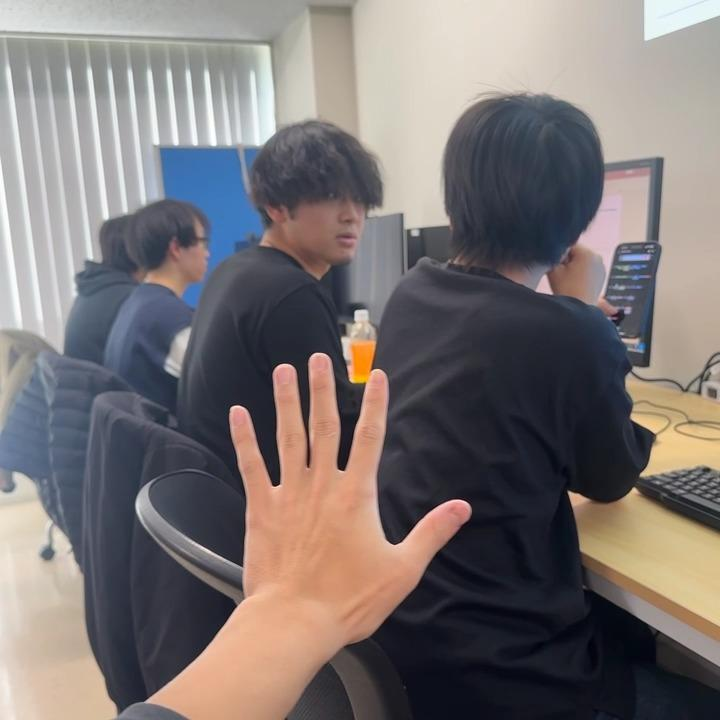without_gloves: (146, 258, 566, 701)
